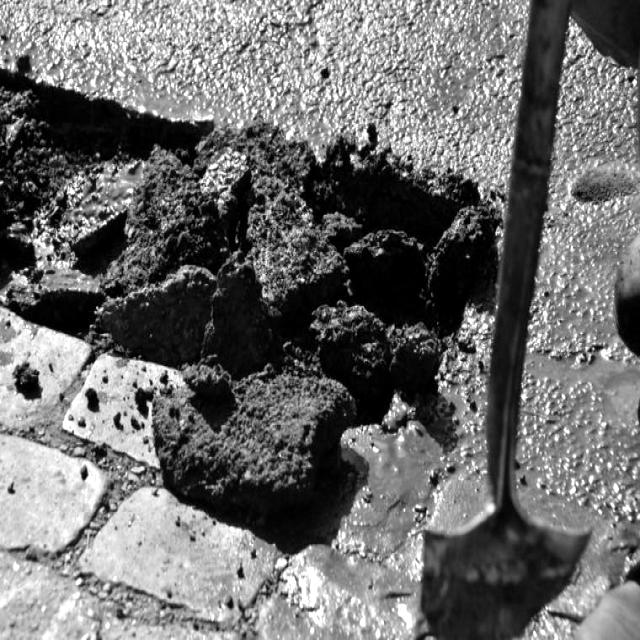pathole: (0, 74, 498, 514)
